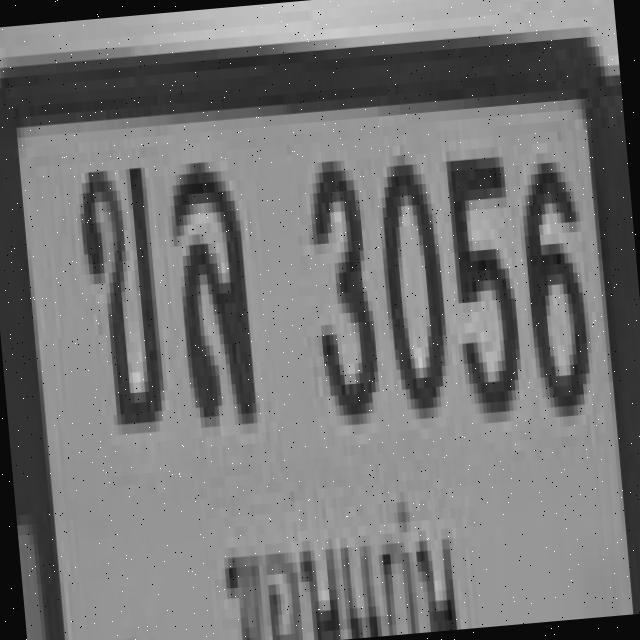0: (369, 142, 448, 410)
11KhorKhai: (72, 158, 163, 426)
3: (300, 148, 379, 416)
45LorLing: (162, 150, 253, 418)
5: (442, 146, 520, 414)
6: (514, 150, 588, 408)
KhonKaen: (207, 487, 467, 640)
